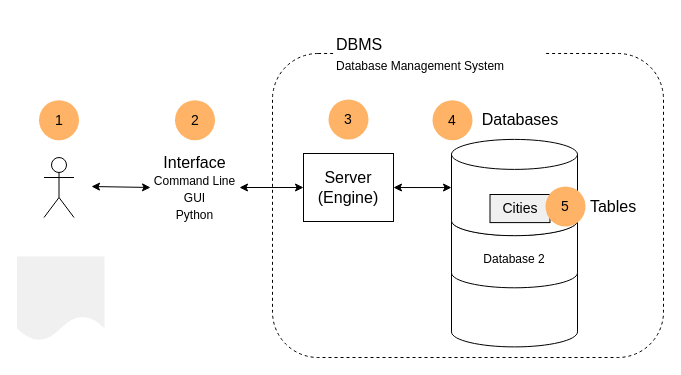
Some shapes in this 681 by 375 pixel diagram are drawn without their labels. Each missing label, with the box of its shape:
Client: (43, 156, 74, 218)
Database 1: (450, 138, 578, 236)
Database 3: (450, 254, 578, 347)
SQL SELECT * FROM Cities: (16, 256, 104, 340)
